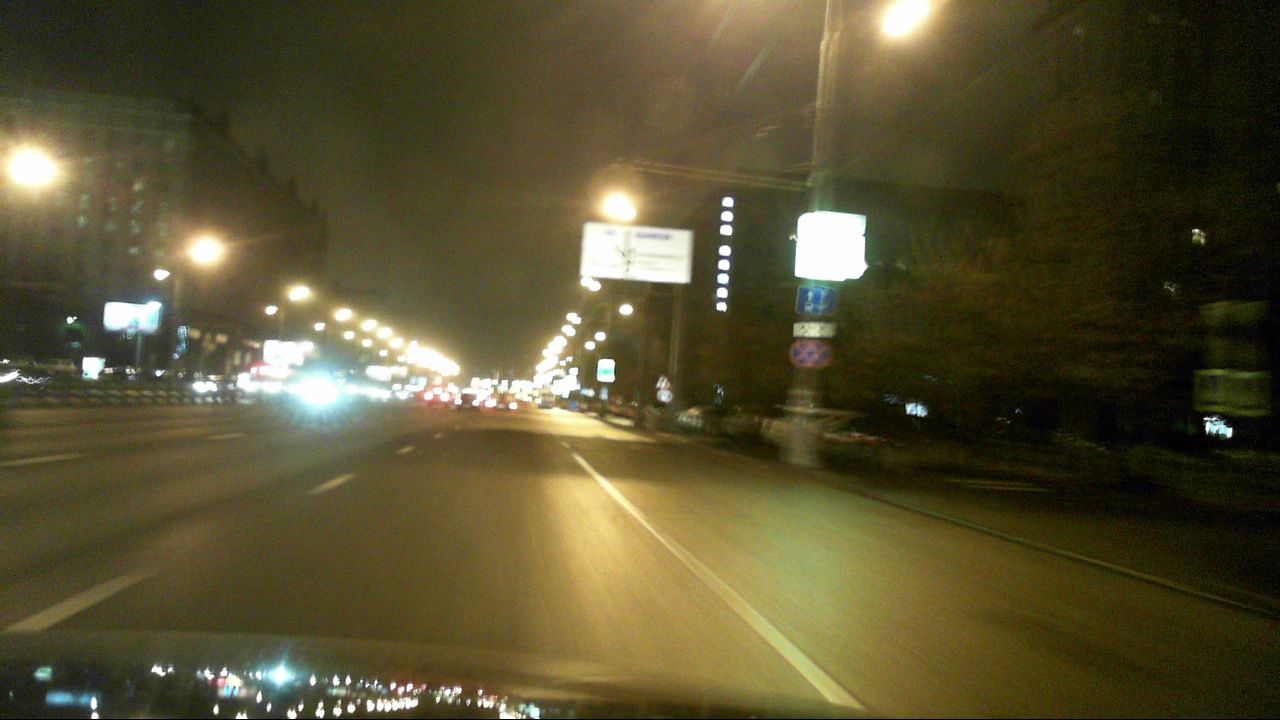No Parking: (788, 339, 818, 366)
